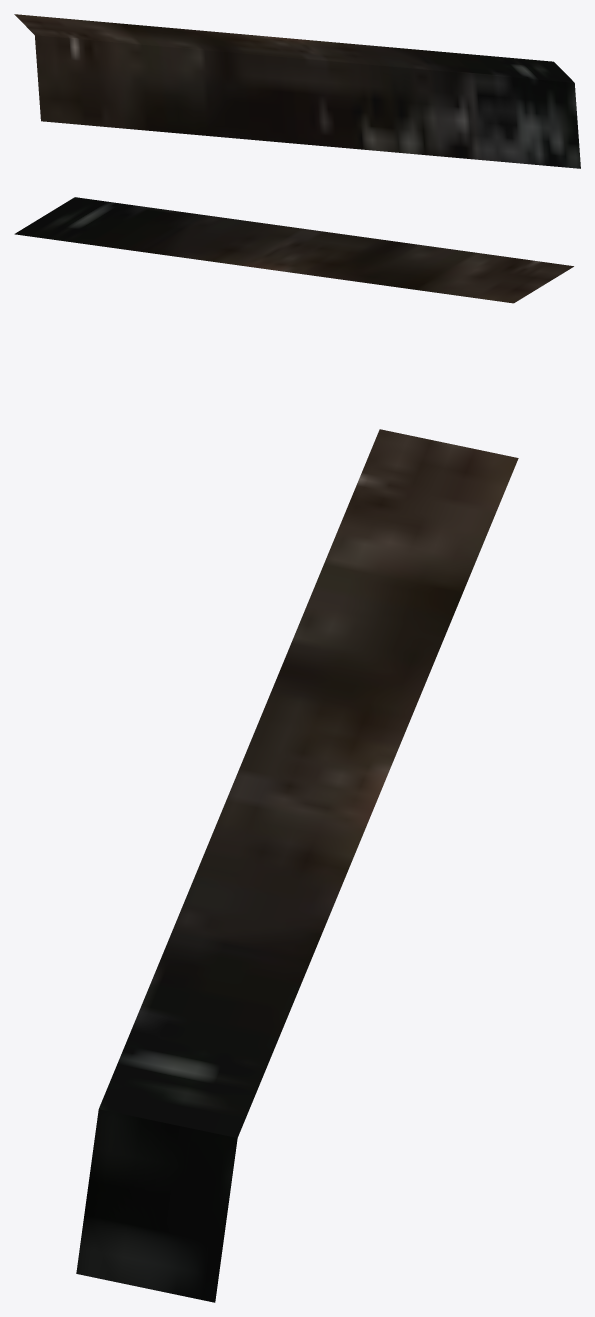
3 views of the same model, one above another, from view 1: azimuth 30°, elevation 25°; view 2: azimuth 150°, elevation 25°; view 3: azimuth 270°, elevation 25° (orthographic). The views are drawn at different scales.
Parts seen in each view (by area): view 1: model_Object69; view 2: model_Object69; view 3: model_Object69.
Part boxes in pixels (x1,y1,x2,y2): model_Object69: [14, 14, 580, 168]; model_Object69: [14, 197, 573, 303]; model_Object69: [76, 429, 518, 1302].
Bounding box in the file's own units: 0.7787 × 0.3081 × 0.308.
Materials: 1 (1 with a texture image).
